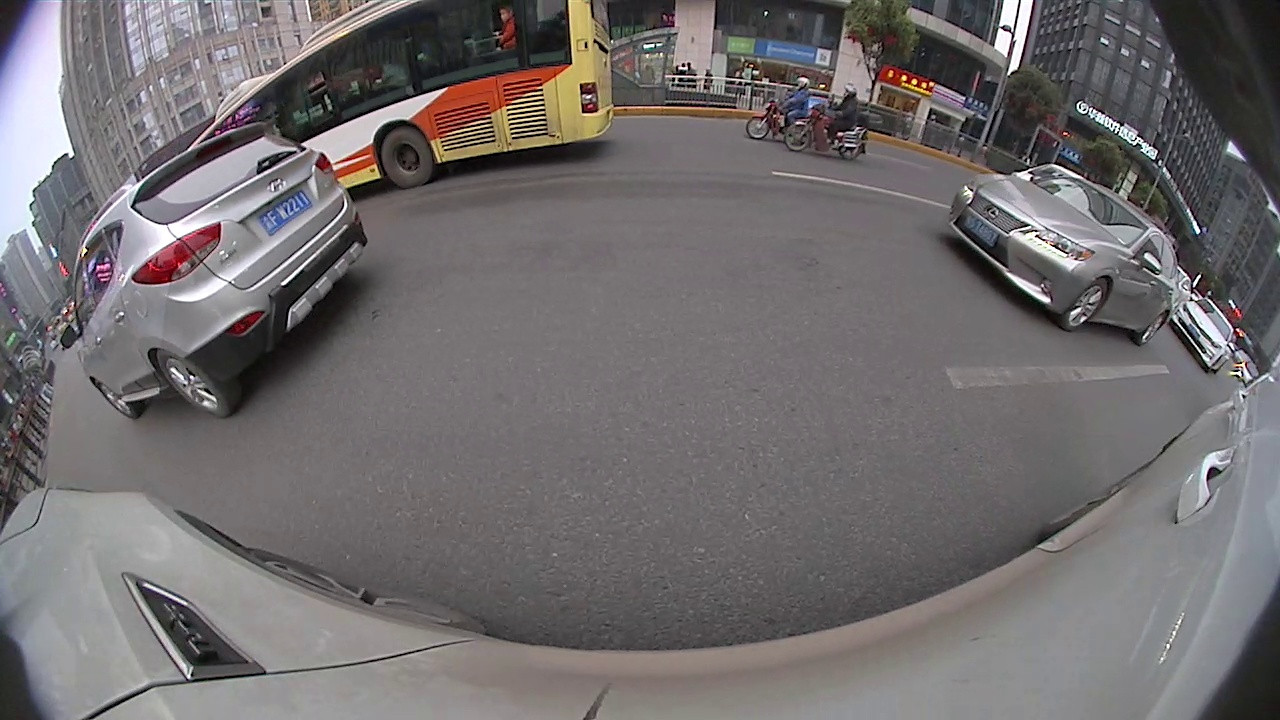bus: (183, 2, 617, 209)
car: (72, 114, 373, 427), (947, 162, 1183, 347), (1162, 297, 1239, 376)
front: (1060, 275, 1110, 333), (93, 376, 142, 421), (784, 120, 813, 153), (746, 115, 772, 141)
rear: (154, 347, 240, 420), (379, 124, 435, 191), (1134, 309, 1168, 346), (838, 142, 866, 163)
rider: (787, 88, 876, 158), (750, 79, 830, 144)
